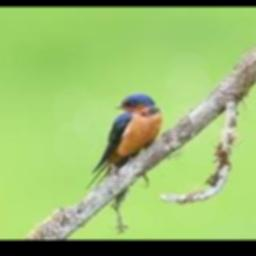Swallow: (86, 93, 162, 191)
